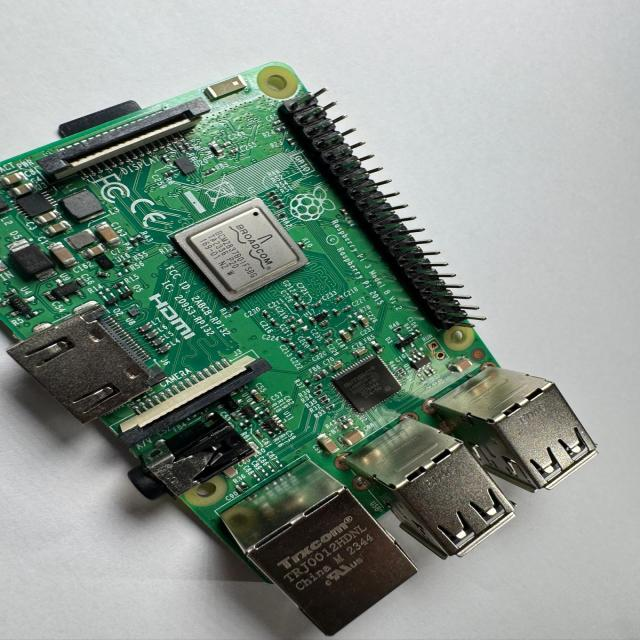CPU: (171, 200, 308, 307)
Ethernet: (192, 479, 417, 637)
GPIO: (279, 91, 473, 336)
HDMI: (8, 319, 161, 428)
RAM-3: (331, 354, 422, 417)
Raspberry: (0, 63, 597, 637)
